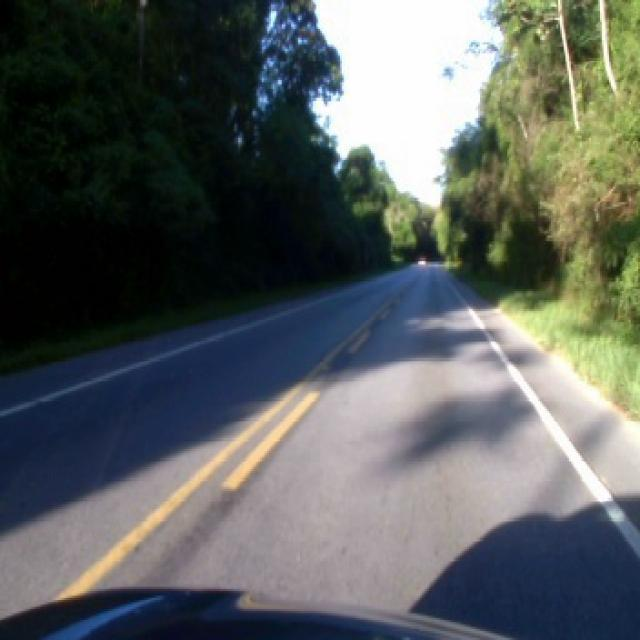Poth-hole: (320, 362, 328, 369)
